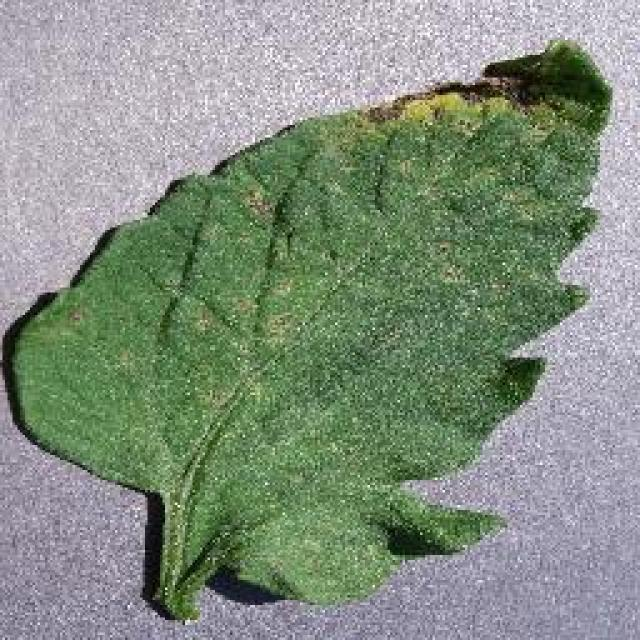Tomato___Septoria_leaf_spot: (8, 40, 610, 618)
